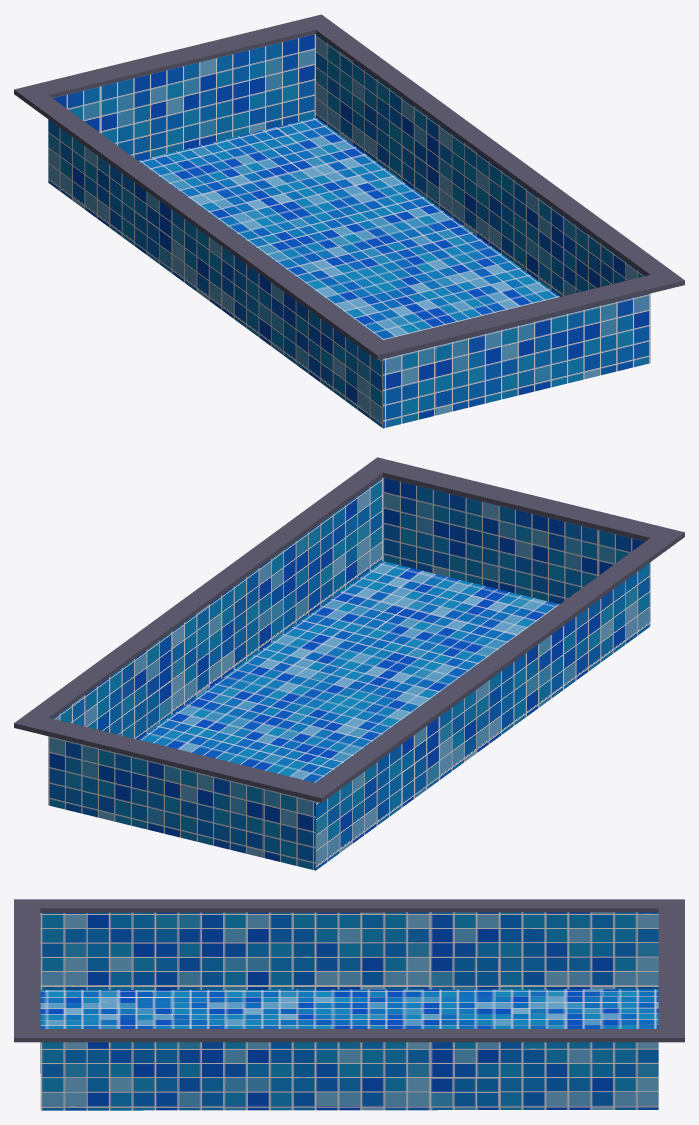
The model's file is Pool_Small.fbx.
3 views of the same model, one above another, from view 1: azimuth 30°, elevation 25°; view 2: azimuth 150°, elevation 25°; view 3: azimuth 270°, elevation 25° (orthographic). The views are drawn at different scales.
Visible parts, largest first — view 1: Pool_Small; view 2: Pool_Small; view 3: Pool_Small.
Part boxes in pixels (box(x1,y1,x2,y2)): Pool_Small: box(14, 14, 684, 428); Pool_Small: box(14, 457, 684, 870); Pool_Small: box(14, 899, 684, 1110).
Size of the model in its own units: 762 by 209 by 1560.
